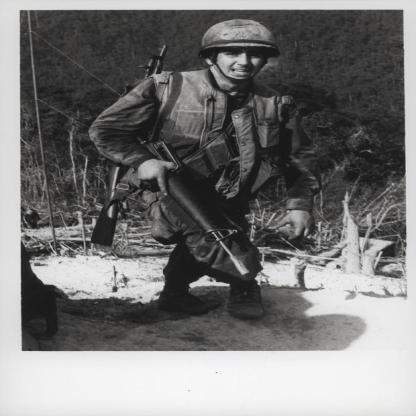Helmet: (199, 20, 280, 79)
